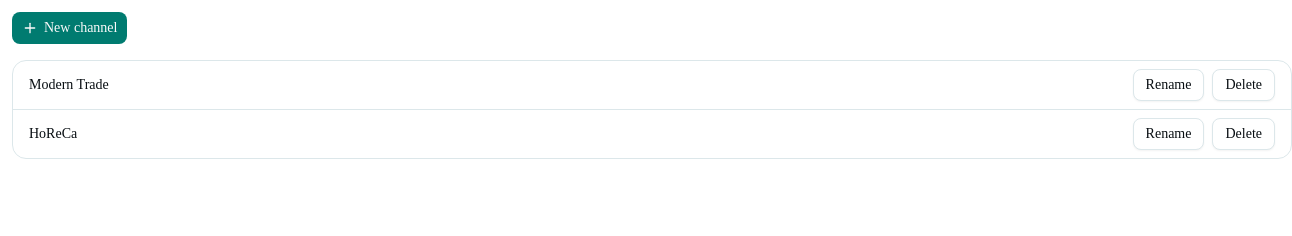
<ChannelBrowser> › shows what the server said when outlets still use a channel
Click the button with aria-label "Delete Modern Trade".
click(1244, 85)  # box [1212, 69, 1275, 101]
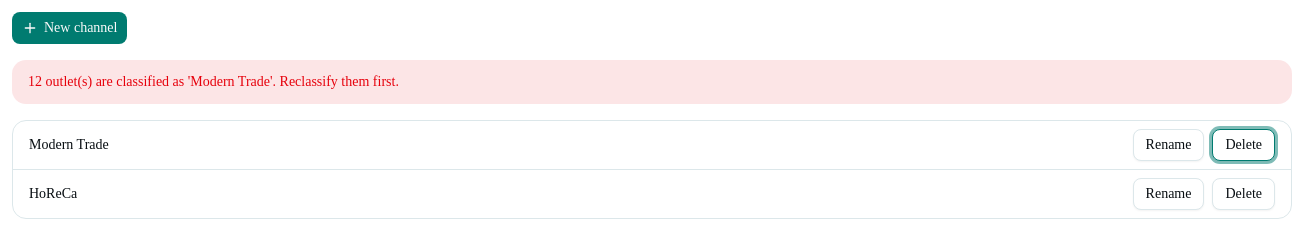
Check: the message shows "12 outlet(s)", box [28, 74, 399, 89]
